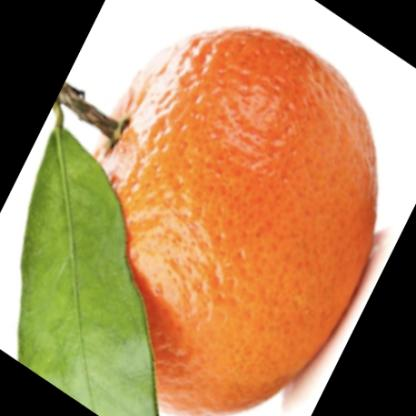fresh: (76, 30, 378, 415)
